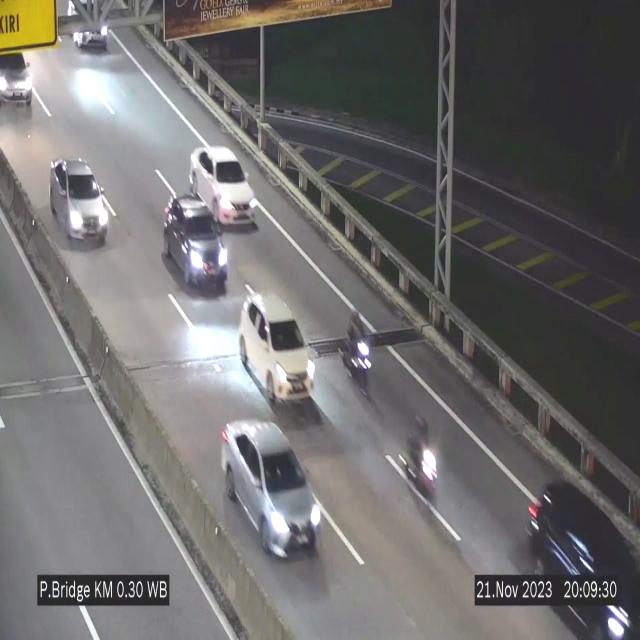Car: (517, 462, 640, 640), (221, 421, 323, 556), (239, 294, 313, 406), (162, 194, 228, 288), (189, 147, 257, 226), (50, 158, 109, 244), (0, 40, 37, 114)
Motorcycle: (407, 412, 438, 514), (342, 313, 372, 395)
